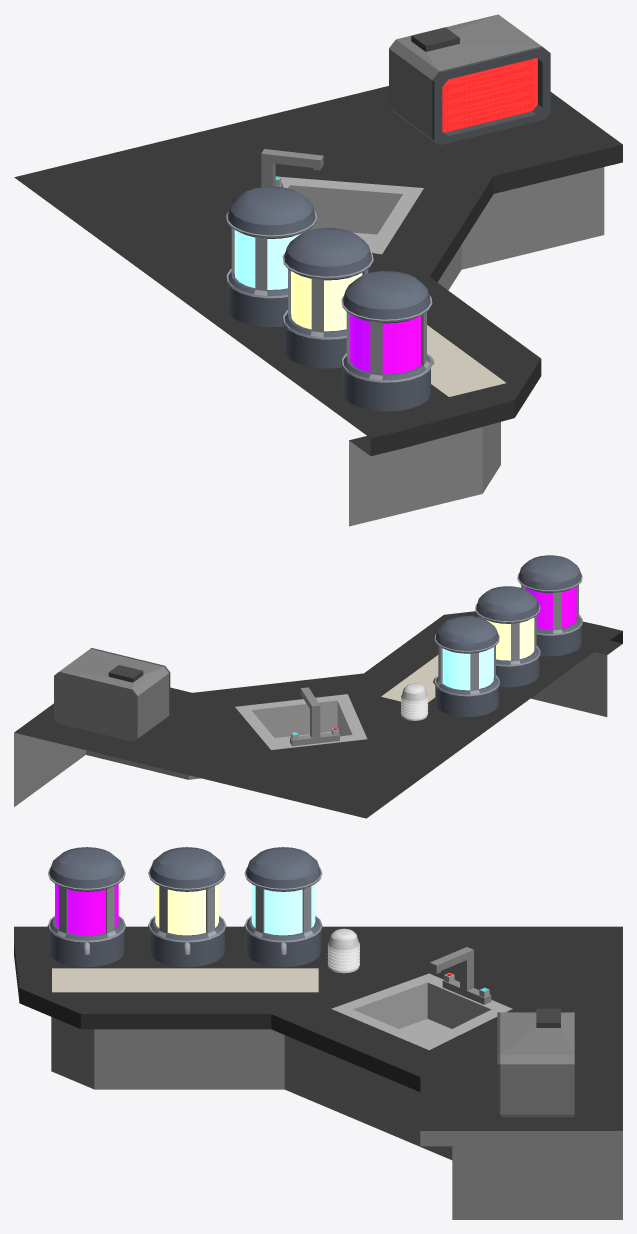
The model's file is Kitchenette_01.fbx.
3 renders of one model, top to bottom at view 1: azimuth 30°, elevation 25°; view 2: azimuth 150°, elevation 25°; view 3: azimuth 270°, elevation 25°, orthographic. The views are drawn at different scales.
Parts seen in each view (by area): view 1: Commons_Kitchenette; view 2: Commons_Kitchenette; view 3: Commons_Kitchenette.
Part boxes in pixels (x1,y1,x2,y2): Commons_Kitchenette: [14, 14, 622, 526]; Commons_Kitchenette: [14, 555, 622, 818]; Commons_Kitchenette: [14, 847, 622, 1219].
Size of the model in its own units: 1274 by 533 by 1606.
